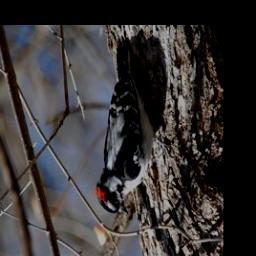Woodpecker: (94, 38, 157, 219)
